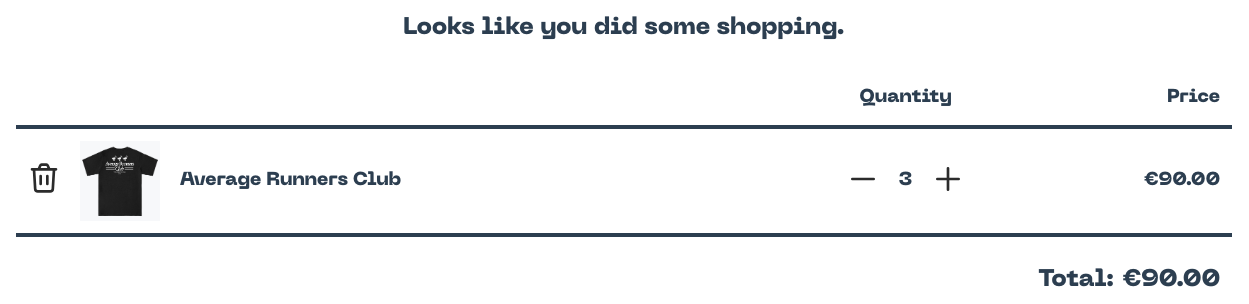
View: Cart View › decrements the quantity of a cart item
The image size is (1249, 304).
Step 1. Click the 2nd button → [863, 181], box [847,164,879,199]
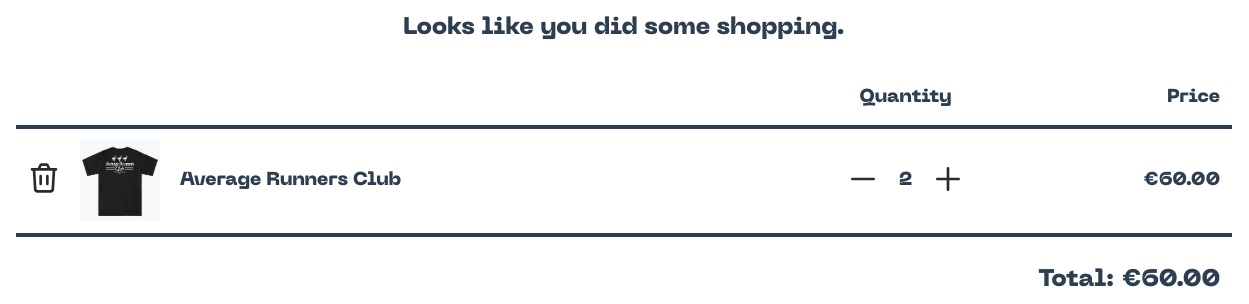
Result: the heading "2" is shown at [899,166,912,196]
